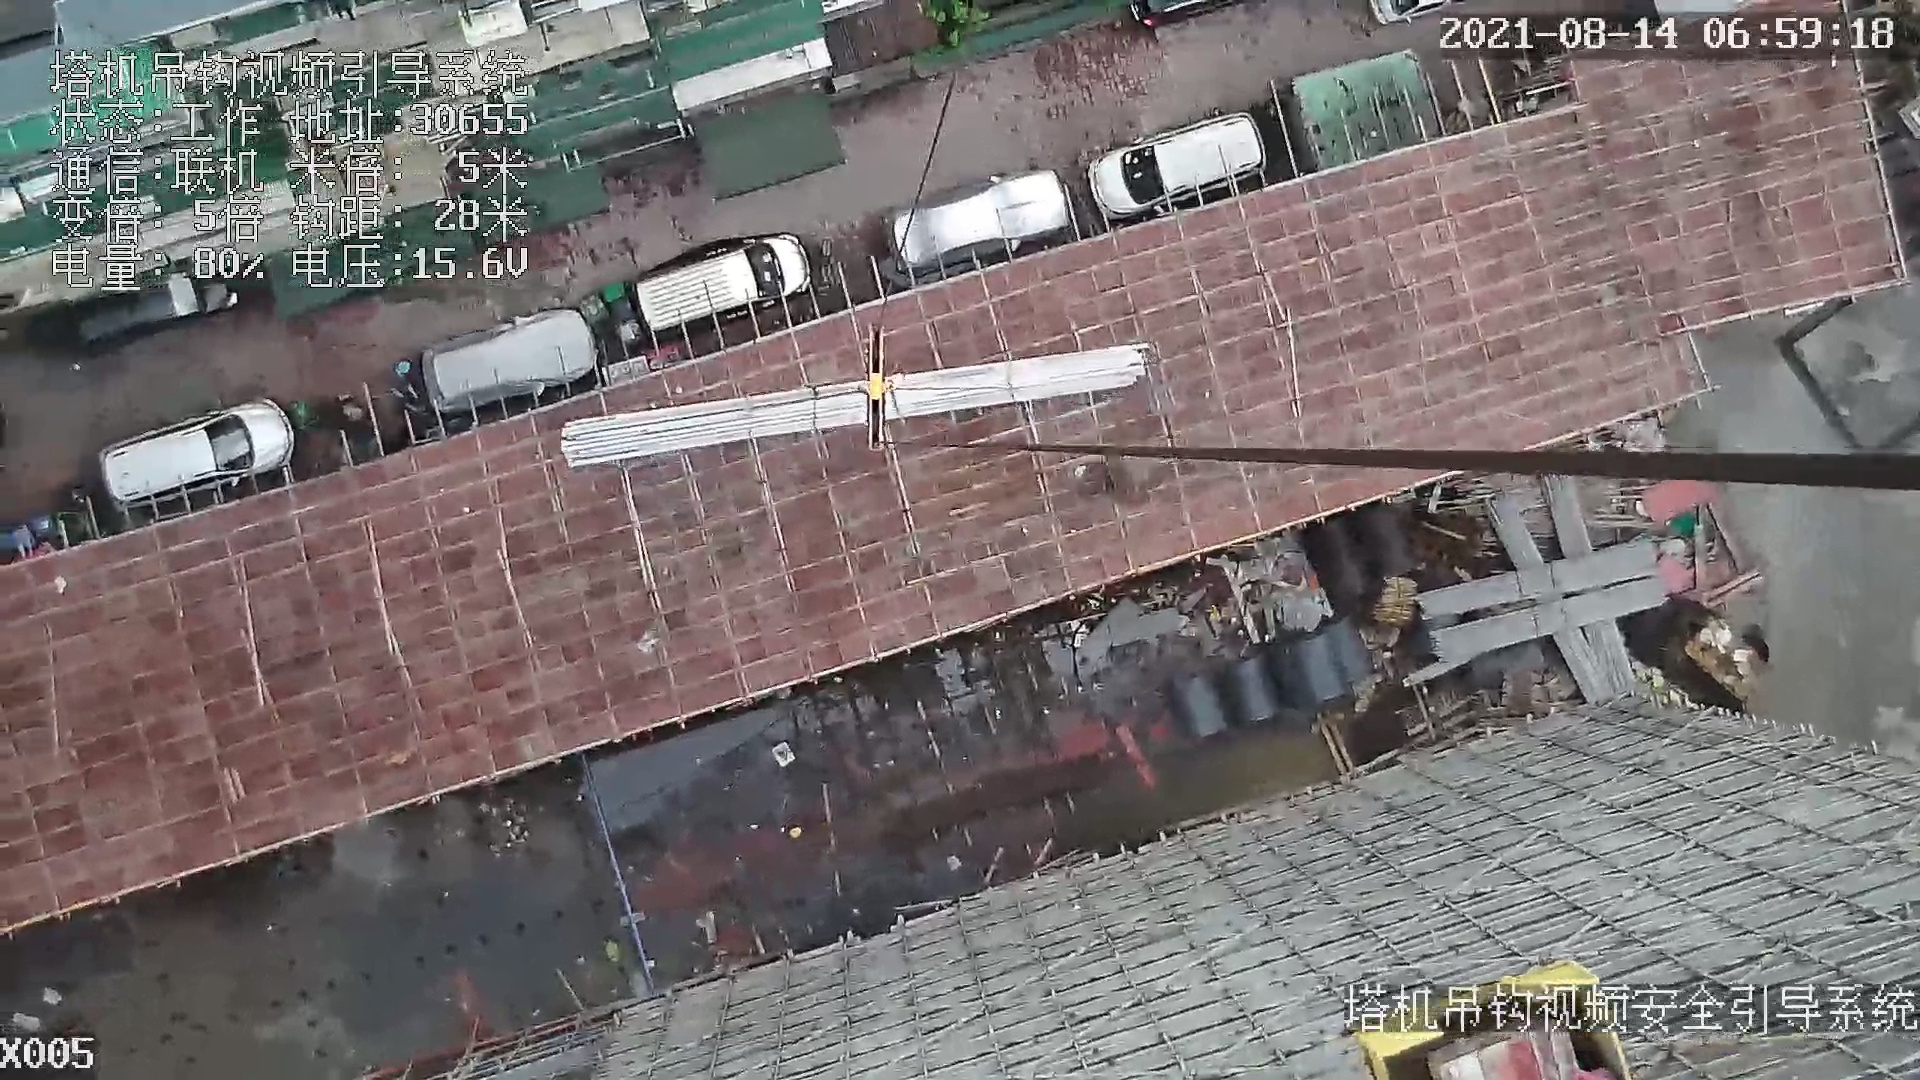hook: (855, 315, 895, 460)
rebar: (563, 339, 1145, 469), (1489, 500, 1613, 703), (1431, 578, 1665, 669), (1542, 476, 1638, 695), (1419, 537, 1658, 620)
wood: (1375, 576, 1414, 625)
